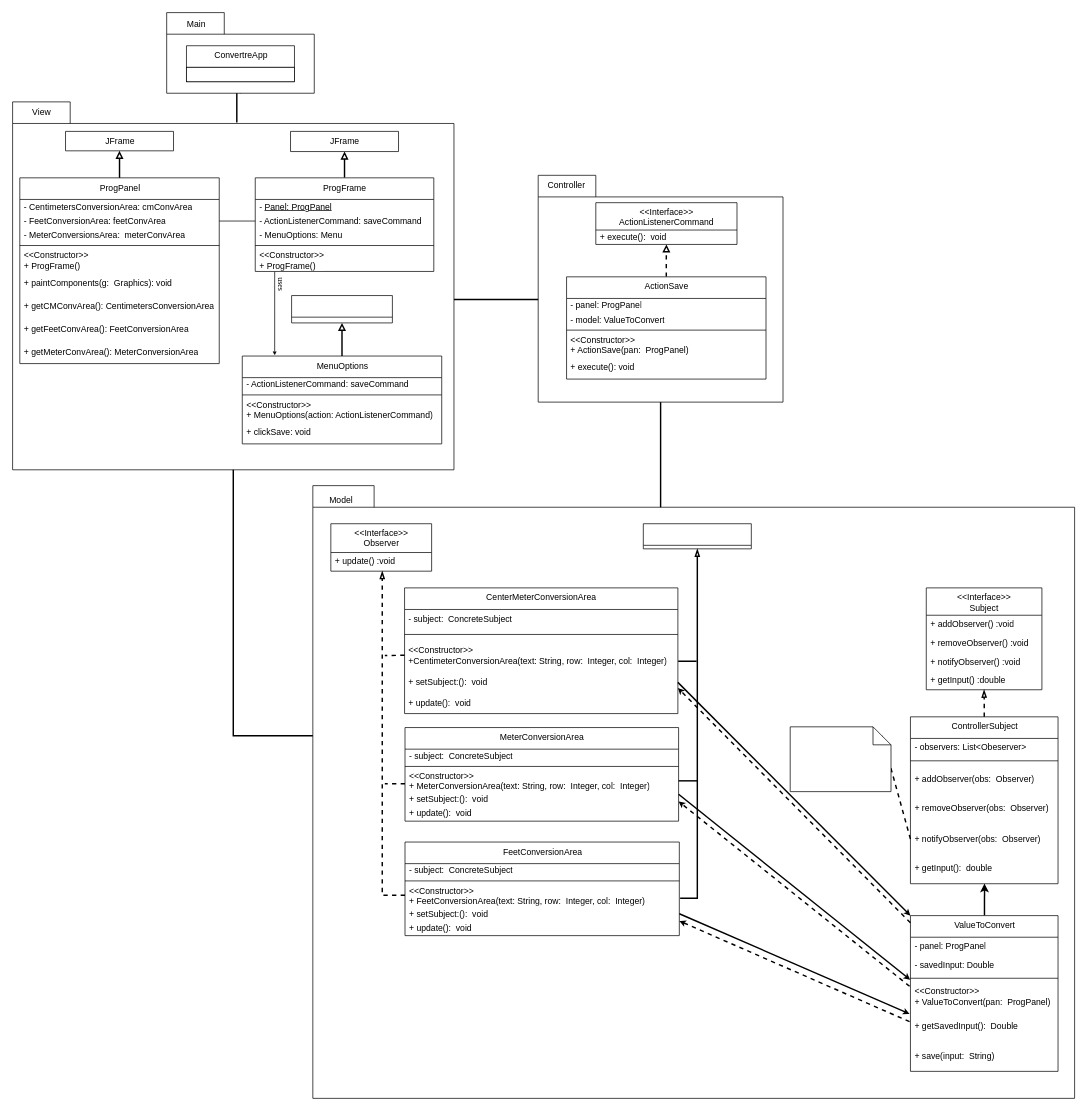
This 1087x1111 diagram has some shape labels left out. Each missing label, with the centre of its shape:
+main(args: String[]): void: [240,74]
foreach o in obervers obs.update(): [840,759]
JMenuBar: [341,309]
JTextArea: [697,536]
